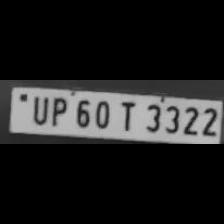0: (91, 97, 113, 128)
2: (198, 104, 218, 136), (180, 102, 198, 136)
3: (140, 100, 162, 132), (162, 101, 180, 133)
6: (71, 97, 91, 129)
P: (48, 94, 68, 126)
T: (114, 97, 138, 130)
U: (28, 93, 48, 125)
